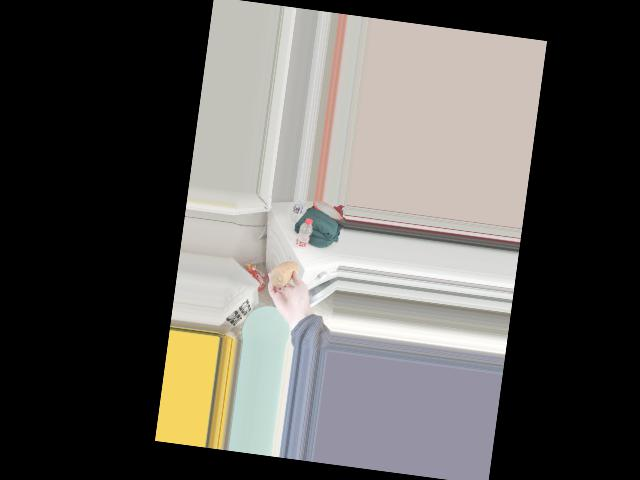sweet_potato: (271, 258, 302, 293)
